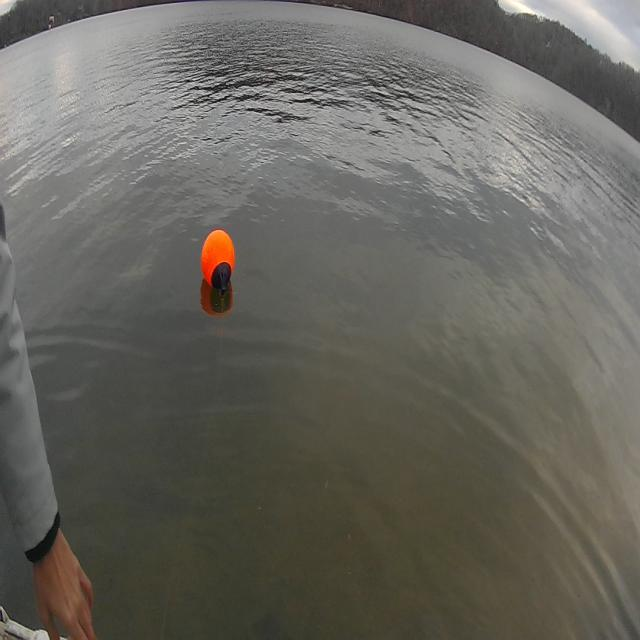Buoy: (197, 223, 237, 305)
